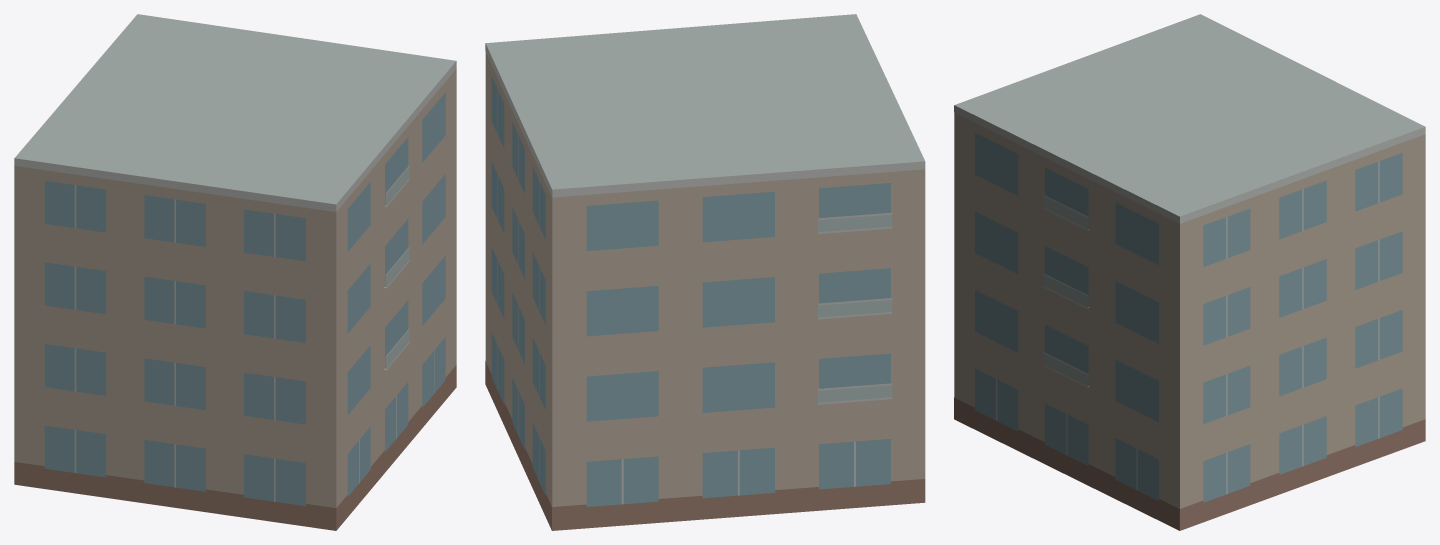
Rendered from survey-upis-32638124.glb.
The picture shows the model from 3 angles, left to right: view 1: azimuth 30°, elevation 25°; view 2: azimuth 150°, elevation 25°; view 3: azimuth 270°, elevation 25°; orthographic projection. The views are drawn at different scales.
Visible parts, largest first — view 1: survey-upis-32638124.tmp; view 2: survey-upis-32638124.tmp; view 3: survey-upis-32638124.tmp.
Boxes of the visible parts, x1,y1,x2,y2 form: survey-upis-32638124.tmp: (14,14,456,530); survey-upis-32638124.tmp: (485,14,925,530); survey-upis-32638124.tmp: (954,14,1425,530).
Size of the model in its own units: 14.53 by 10.5 by 14.29.
